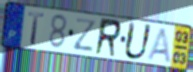8: (47, 13, 68, 50)
A: (145, 27, 173, 65)
R: (93, 17, 123, 59)
T: (27, 10, 46, 46)
U: (122, 21, 154, 62)
Z: (73, 18, 99, 54)
